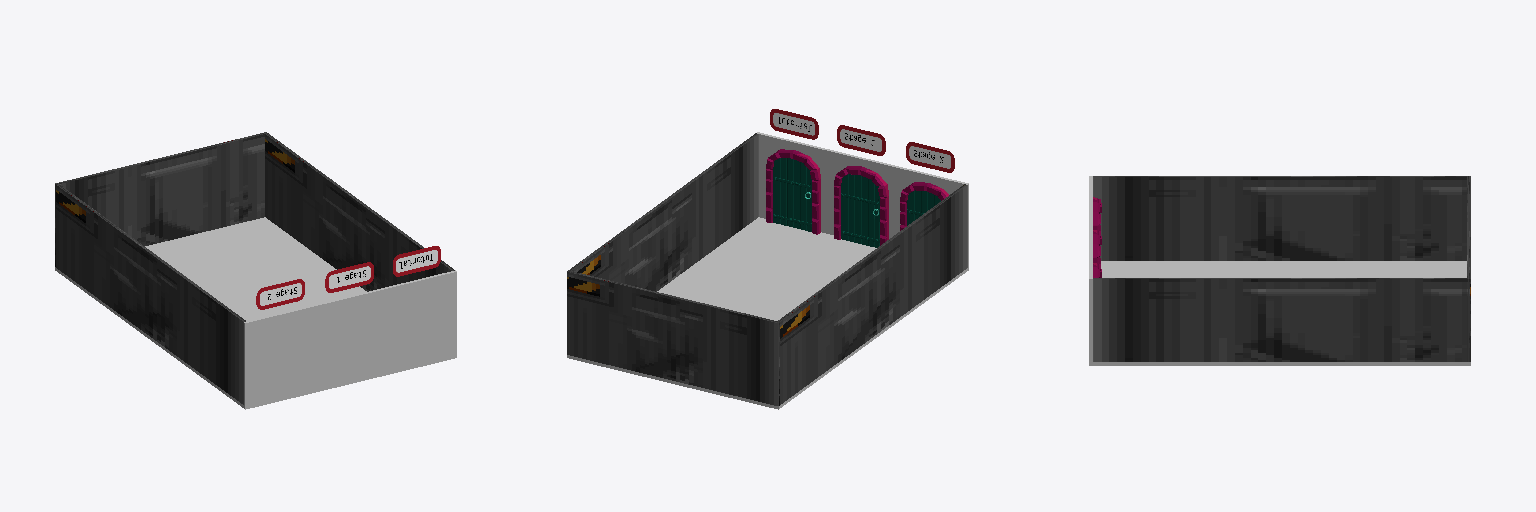
The picture shows the model from 3 angles: view 1: azimuth 30°, elevation 25°; view 2: azimuth 150°, elevation 25°; view 3: azimuth 270°, elevation 25°; orthographic projection.
Visible parts, largest first — view 1: Cube.003_Cube.004, Cube.004_Cube.005, Cube.002_Cube.003, Cube.001_Cube.002, Cube.005_Cube.006, Plane.002_Plane.003, Plane.003_Plane.004, Plane; view 2: Cube.002_Cube.003, Cube.004_Cube.005, Cube.001_Cube.002, Cube.005_Cube.006, Cube.003_Cube.004, closedDoor_01_Mesh.142, closedDoor_01.001_Mesh.001, archDoorway_01_Mesh.129, archDoorway_01.001_Mesh.000, Plane, Plane.002_Plane.003, Plane.003_Plane.004 (+2 smaller); view 3: Cube.005_Cube.006, Cube.004_Cube.005, Cube.001_Cube.002, Cube.002_Cube.003, Cube.003_Cube.004.
Part boxes in pixels (x1,y1,x2,y2): Cube.003_Cube.004: (244, 270, 456, 405); Cube.004_Cube.005: (56, 184, 245, 404); Cube.002_Cube.003: (55, 132, 266, 266); Cube.001_Cube.002: (55, 217, 456, 409); Cube.005_Cube.006: (265, 133, 454, 291); Plane.002_Plane.003: (325, 262, 373, 292); Plane.003_Plane.004: (256, 279, 304, 309); Plane: (393, 246, 440, 276); Cube.002_Cube.003: (567, 270, 779, 405); Cube.004_Cube.005: (778, 184, 967, 404); Cube.001_Cube.002: (567, 217, 968, 409); Cube.005_Cube.006: (569, 133, 758, 291); Cube.003_Cube.004: (757, 132, 968, 266); closedDoor_01_Mesh.142: (773, 158, 811, 231); closedDoor_01.001_Mesh.001: (841, 174, 879, 247); archDoorway_01_Mesh.129: (766, 149, 820, 234); archDoorway_01.001_Mesh.000: (834, 166, 888, 245); Plane: (770, 109, 818, 139); Plane.002_Plane.003: (837, 125, 885, 155); Plane.003_Plane.004: (906, 142, 954, 172); Cube.005_Cube.006: (1093, 278, 1466, 361); Cube.004_Cube.005: (1093, 176, 1466, 260); Cube.001_Cube.002: (1089, 261, 1470, 365); Cube.002_Cube.003: (1467, 176, 1470, 361); Cube.003_Cube.004: (1089, 176, 1092, 361).
Bounding box in the file's own units: 11.8 × 6.17 × 18.4.
Materials: 8 (5 with a texture image).